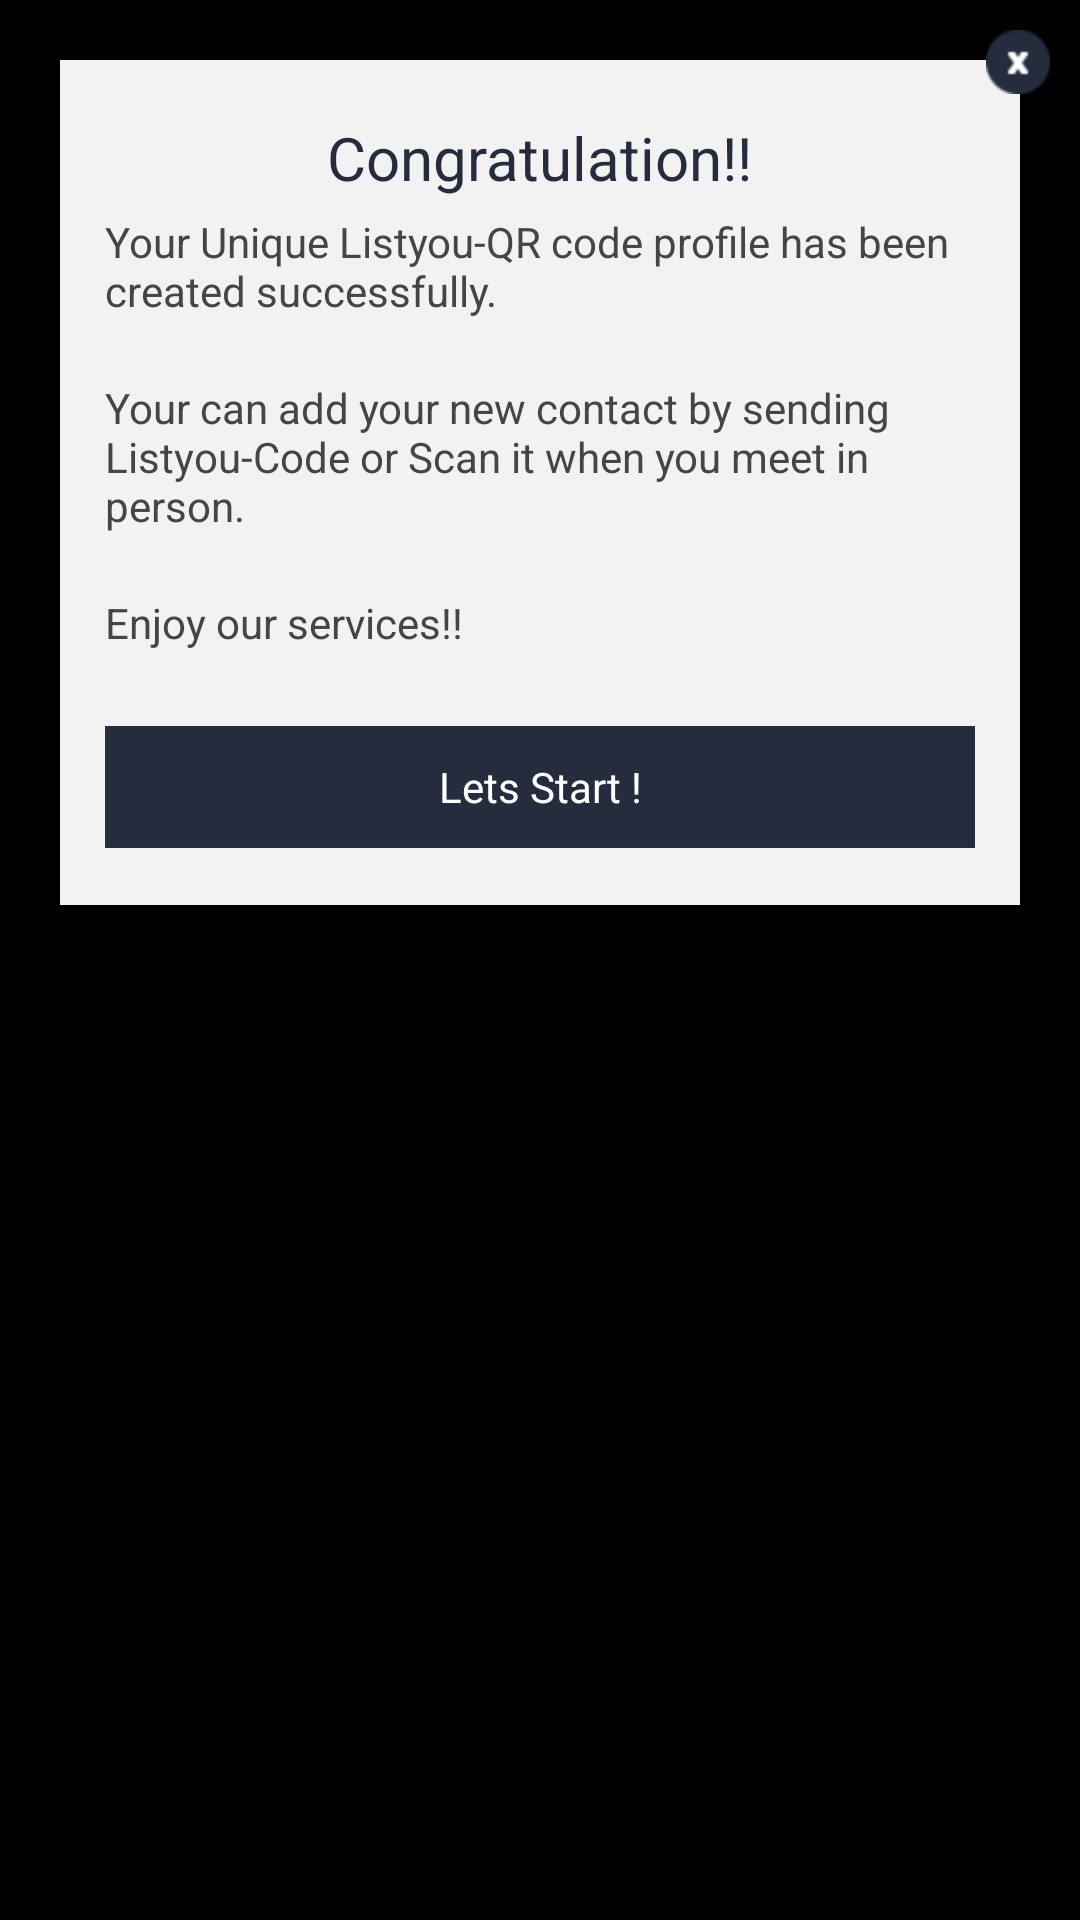

Named icons in this screenshot (1080px×1920px) and their bounding boxes, (x1, y1, x2, y2):
cross: (986, 30, 1050, 94)
